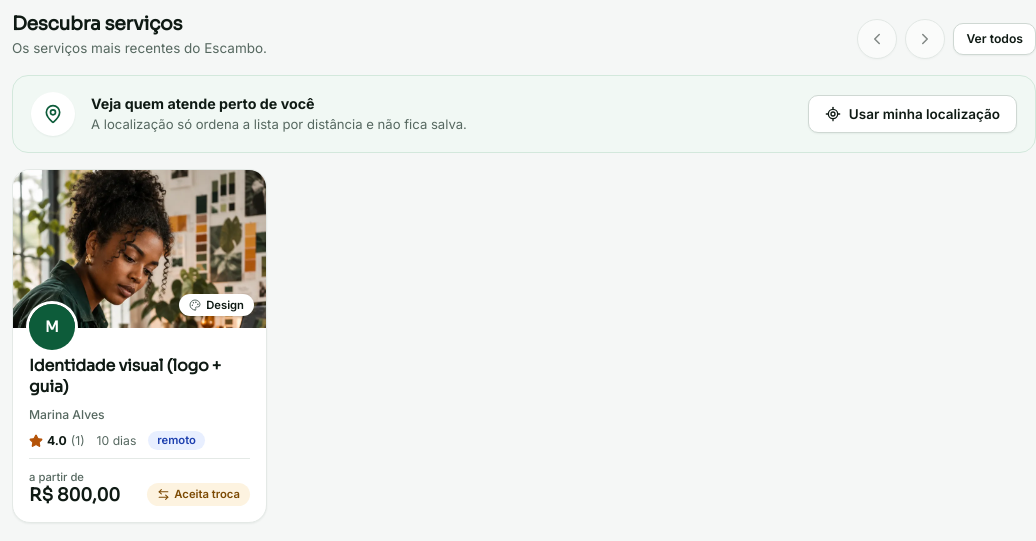
Test: NearbyServices › enquanto localiza, o botão diz e fica travado
This screenshot has width=1036, height=541.
Click the button "Usar minha localização": (912, 114) [808,95,1017,134]
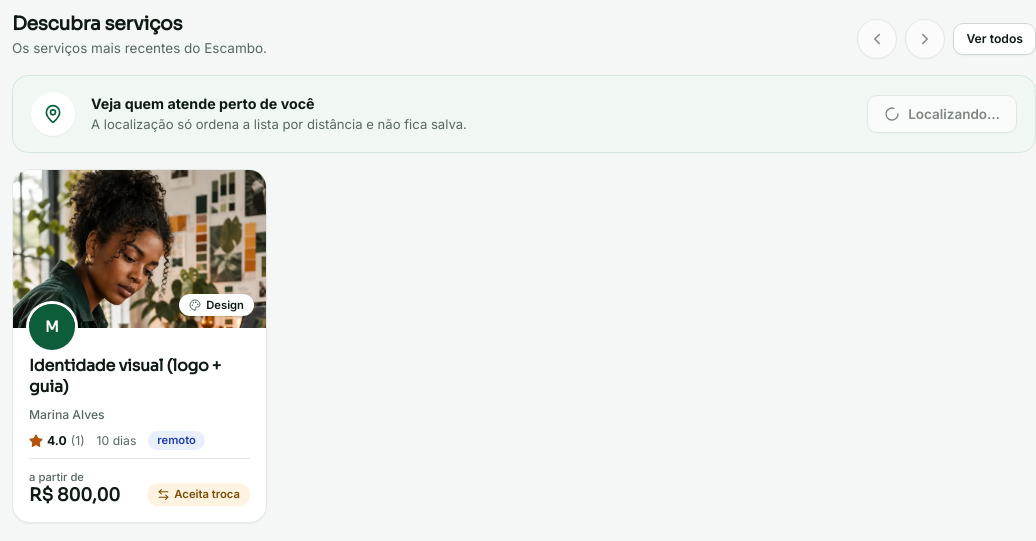
Expected: the button "Localizando…" is disabled, [867,95,1017,134]
